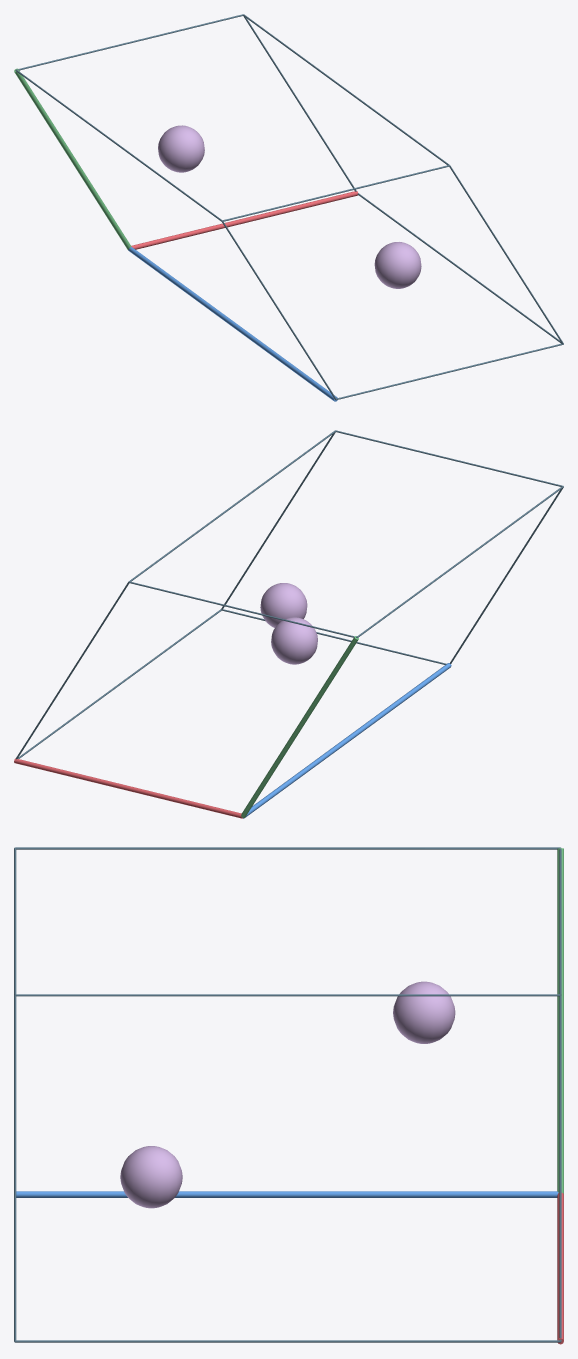
File: nguyen-to-er.glb
3 views of the same model, one above another, from view 1: azimuth 30°, elevation 25°; view 2: azimuth 150°, elevation 25°; view 3: azimuth 270°, elevation 25° (orthographic). The views are drawn at different scales.
Visible parts, largest first — view 1: Ô mạng và các trục a, b, c, Er · Er · 1 (×2); view 2: Ô mạng và các trục a, b, c, Er · Er · 1 (×2); view 3: Ô mạng và các trục a, b, c, Er · Er · 1 (×2).
Boxes of the visible parts, x1=… form: Ô mạng và các trục a, b, c: x1=14, y1=14, x2=563, y2=401; Er · Er · 1 (×2): x1=158, y1=125, x2=421, y2=288; Ô mạng và các trục a, b, c: x1=14, y1=430, x2=563, y2=818; Er · Er · 1 (×2): x1=260, y1=583, x2=317, y2=664; Ô mạng và các trục a, b, c: x1=14, y1=847, x2=563, y2=1344; Er · Er · 1 (×2): x1=120, y1=981, x2=455, y2=1208.
Bounding box in the file's own units: 5.38 × 3.13 × 5.63.
